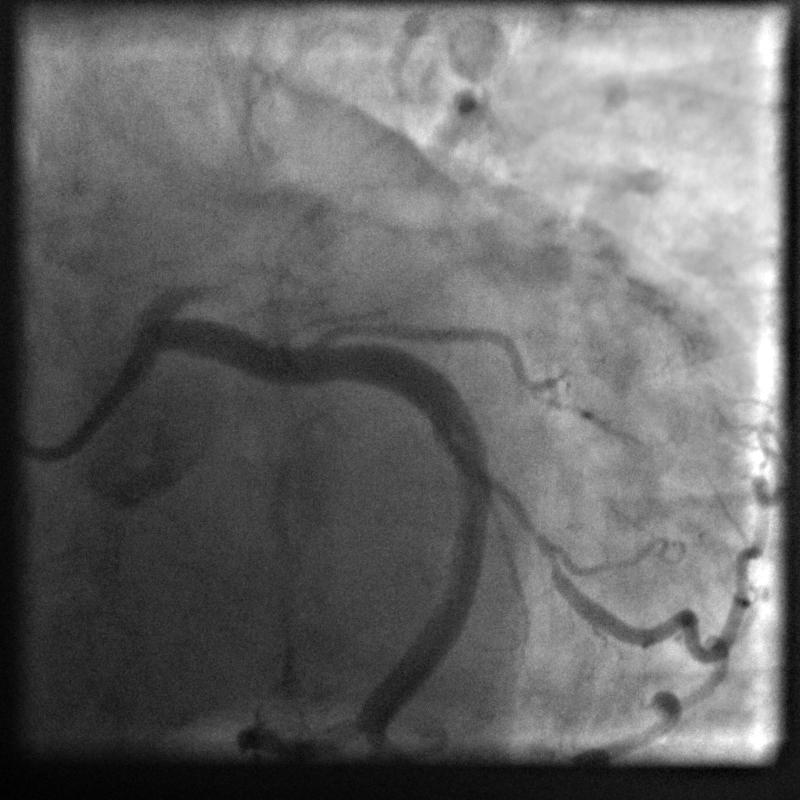Stenosis: (478, 460, 576, 584)
